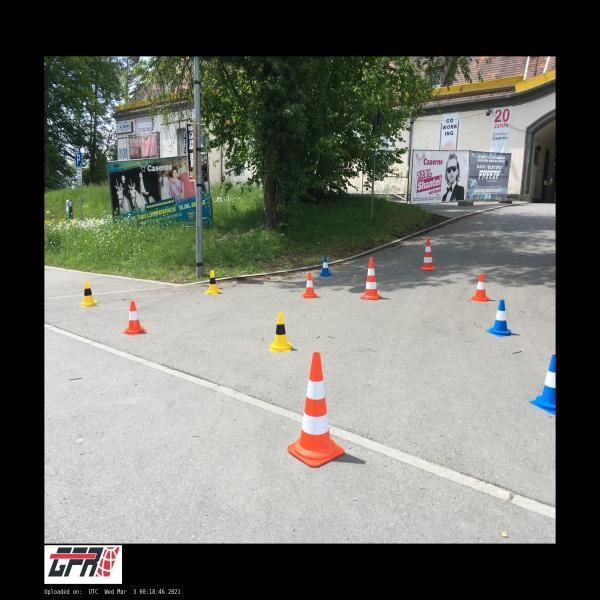blue_cone: (530, 354, 556, 415), (486, 300, 514, 337), (319, 257, 332, 276)
large_orange_cone: (287, 352, 344, 467), (360, 257, 381, 300), (421, 238, 436, 271)
orange_cone: (122, 301, 147, 335), (470, 274, 491, 302), (302, 272, 318, 298)
yellow_cone: (269, 312, 292, 352), (81, 280, 98, 308), (205, 270, 221, 294)
